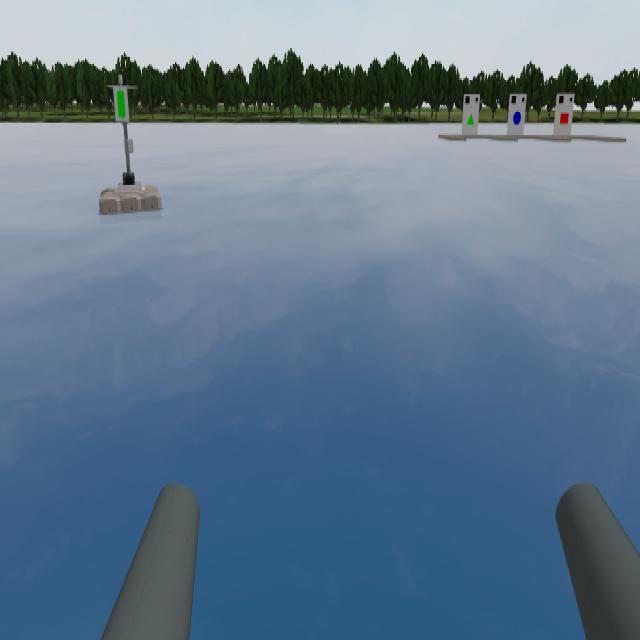dock: (461, 96, 480, 133), (508, 92, 524, 134), (557, 96, 573, 130)
post: (114, 90, 130, 124)
